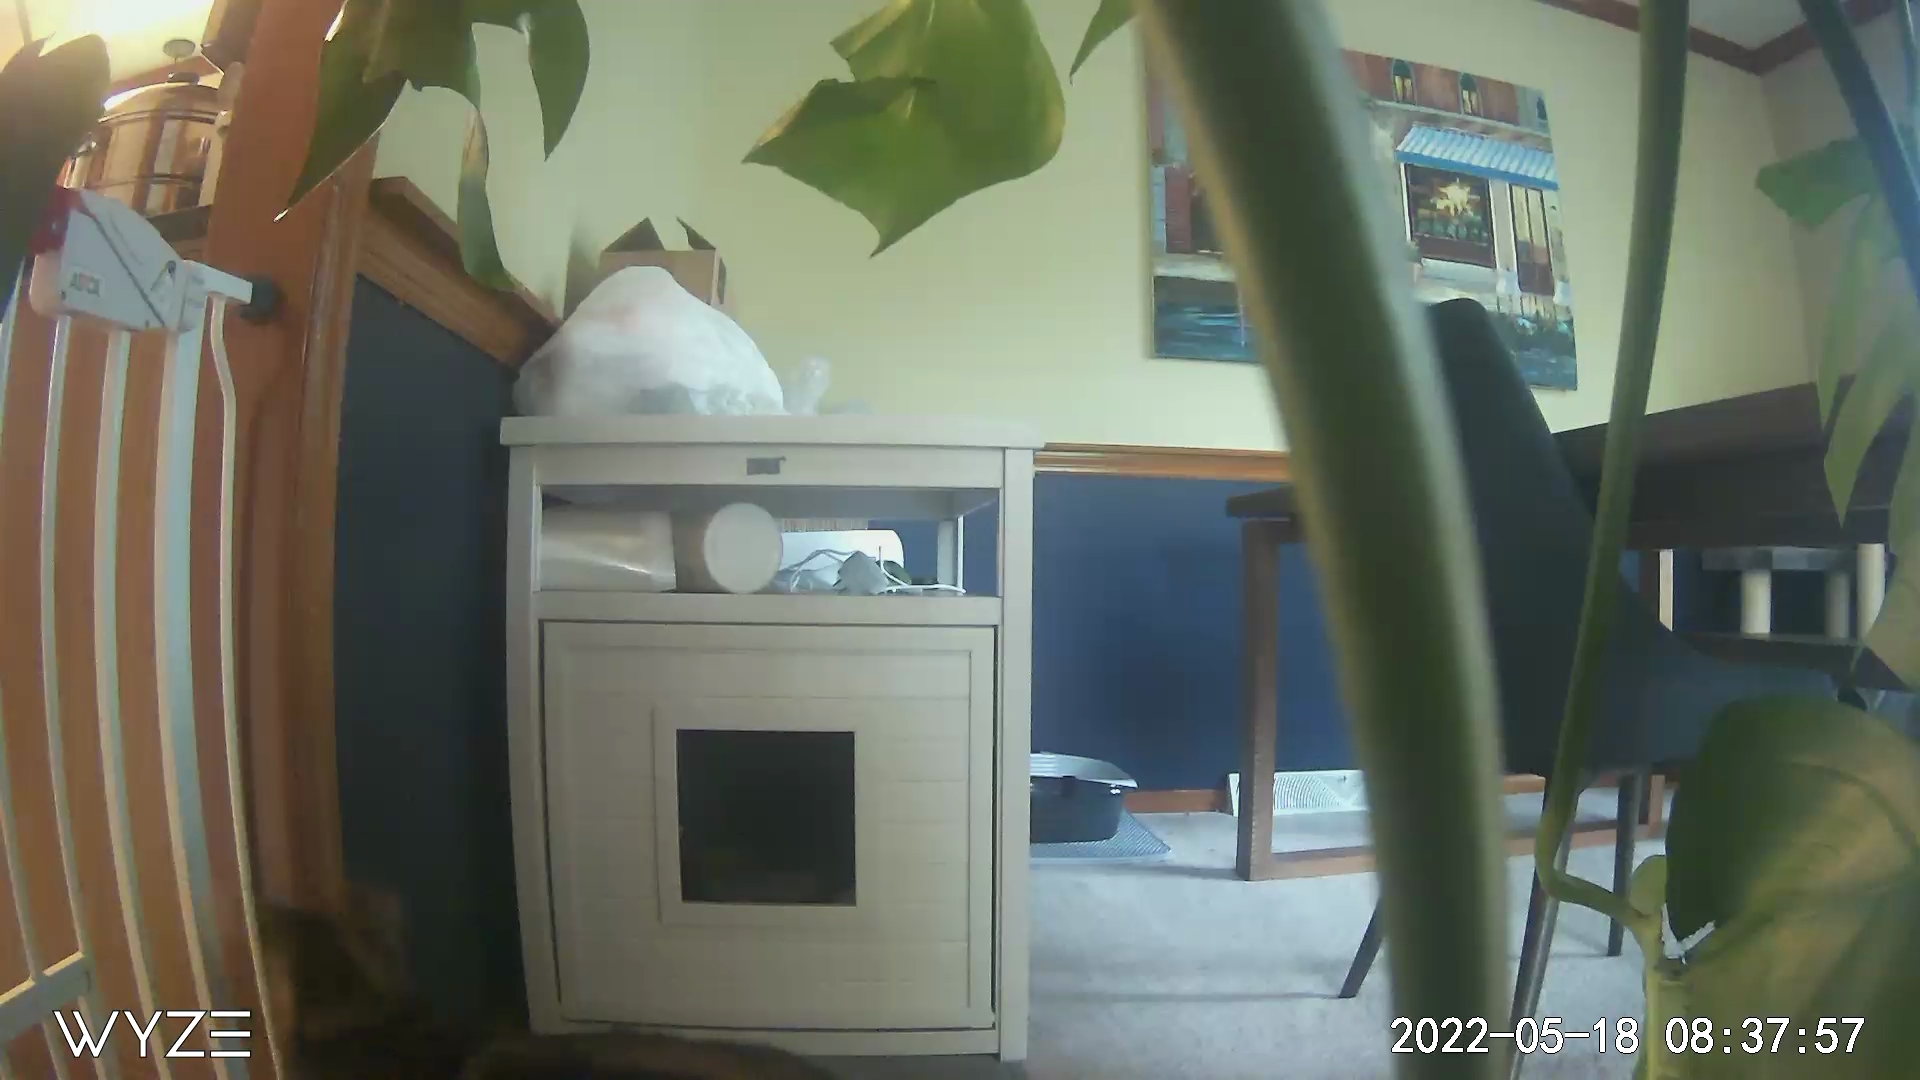sparky: (268, 913, 811, 1069)
